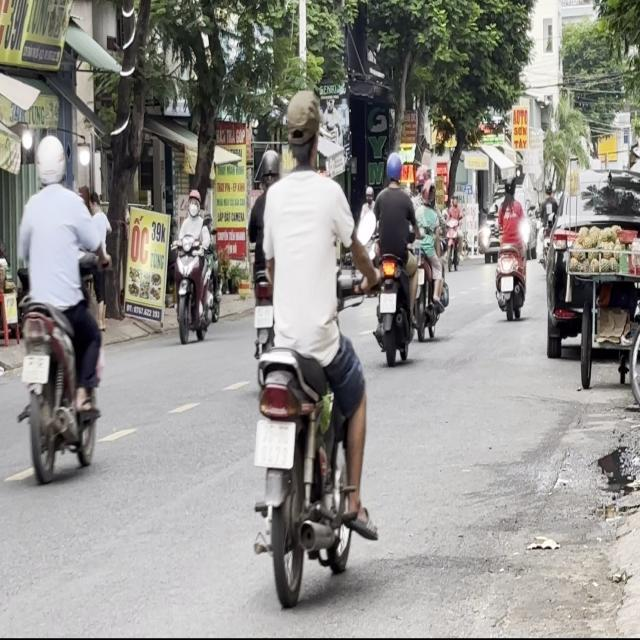helmet: (34, 134, 66, 188), (258, 148, 279, 189), (384, 150, 403, 184), (186, 188, 201, 216)
licenseplate: (245, 86, 376, 604), (12, 131, 108, 481), (369, 149, 418, 366), (170, 188, 218, 344)
motorcyclist: (283, 86, 323, 168)
nohelmet: (254, 420, 294, 468), (22, 353, 48, 381), (254, 304, 272, 327), (380, 291, 396, 312)
